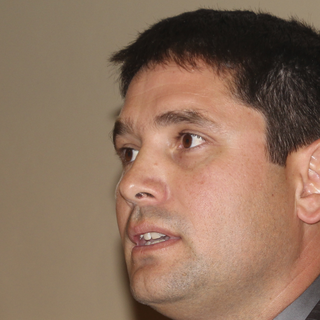eye: (169, 126, 213, 152), (115, 144, 146, 166)
